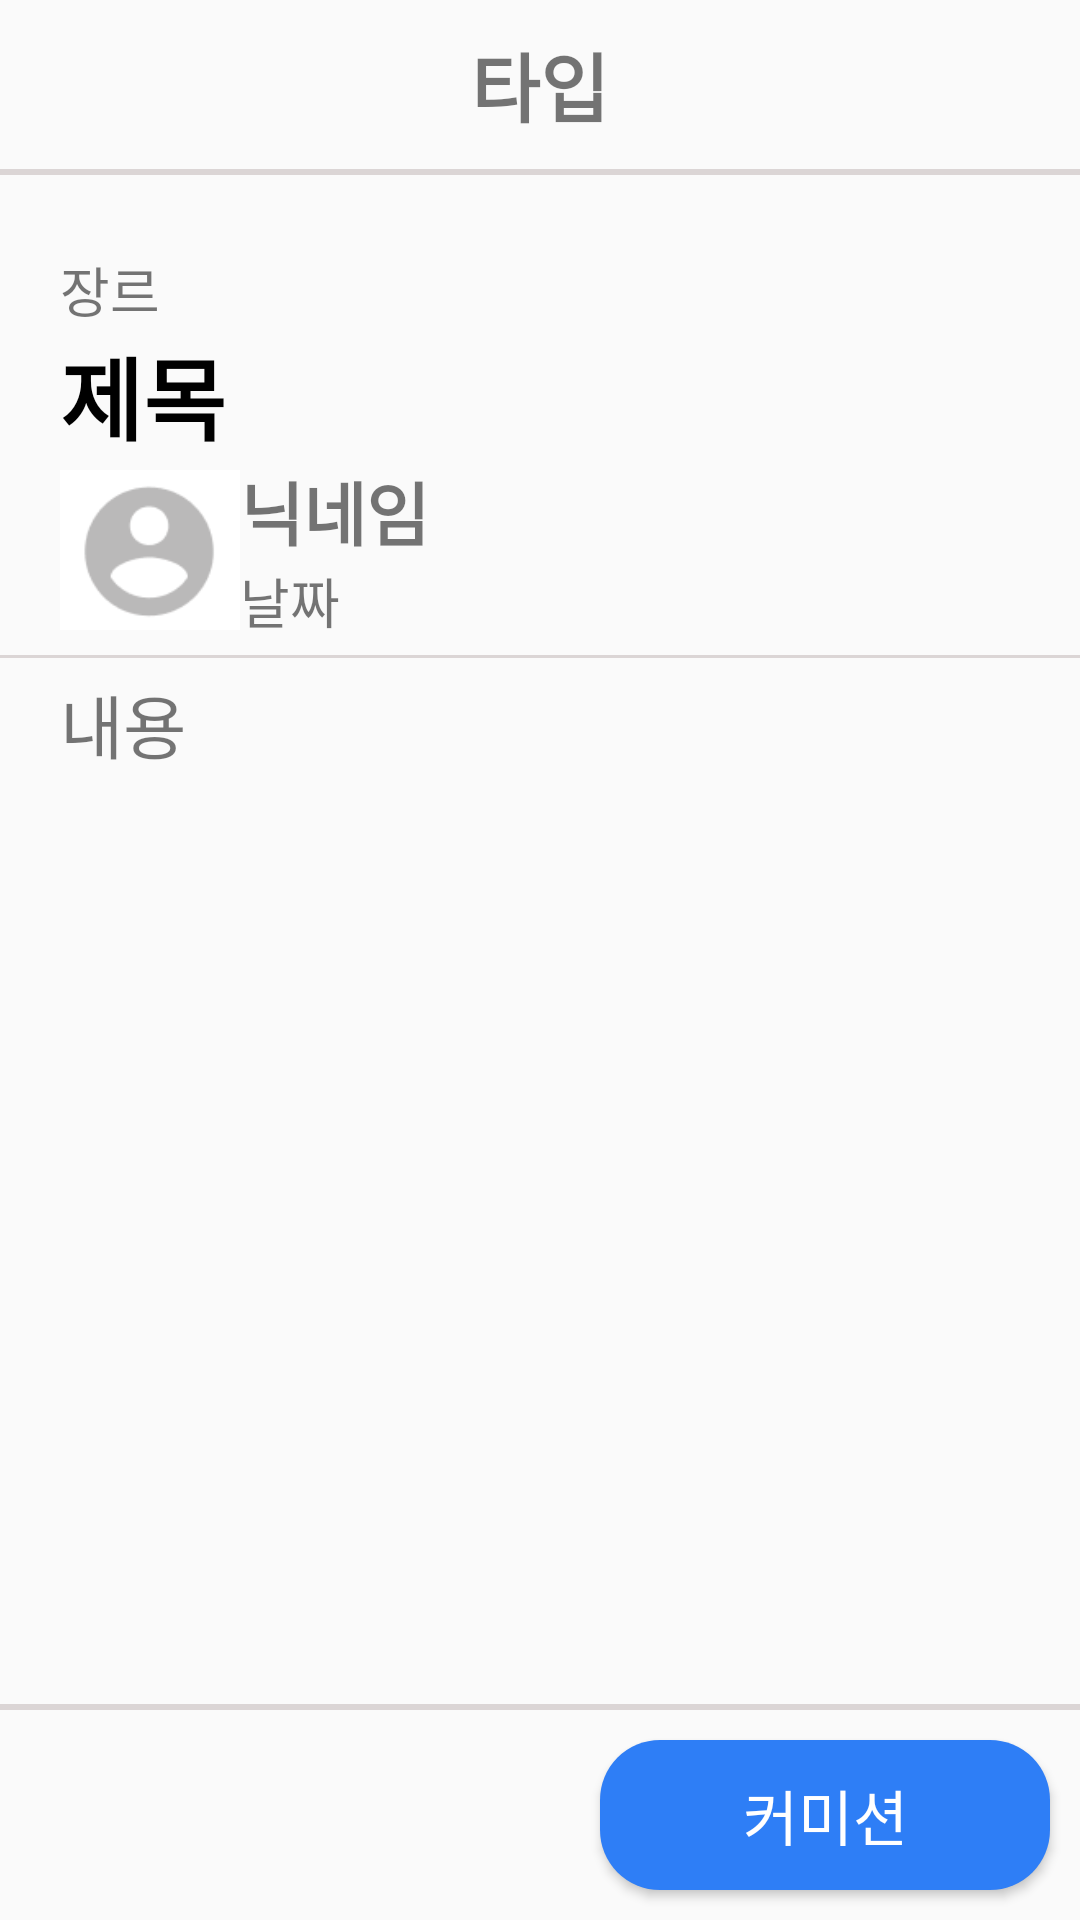

Named icons in this screenshot (1080px×1920px) and their bounding boxes, (x1, y1, x2, y2):
profile: (85, 487, 214, 616)
